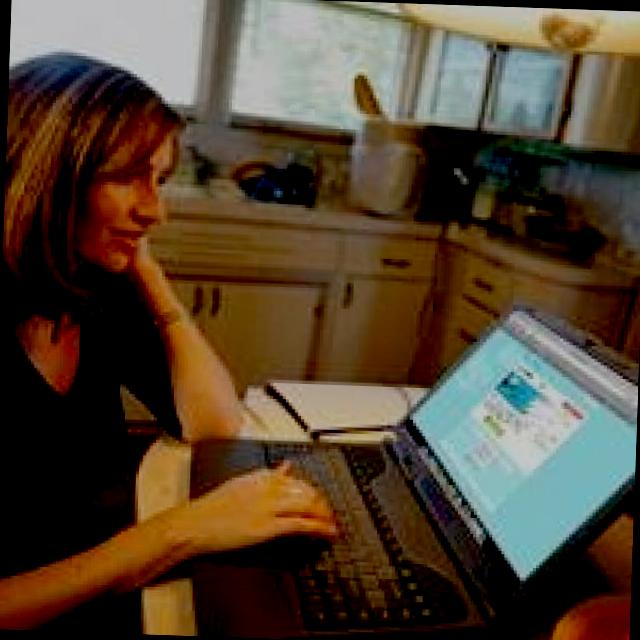no_vest: (0, 289, 151, 562)
